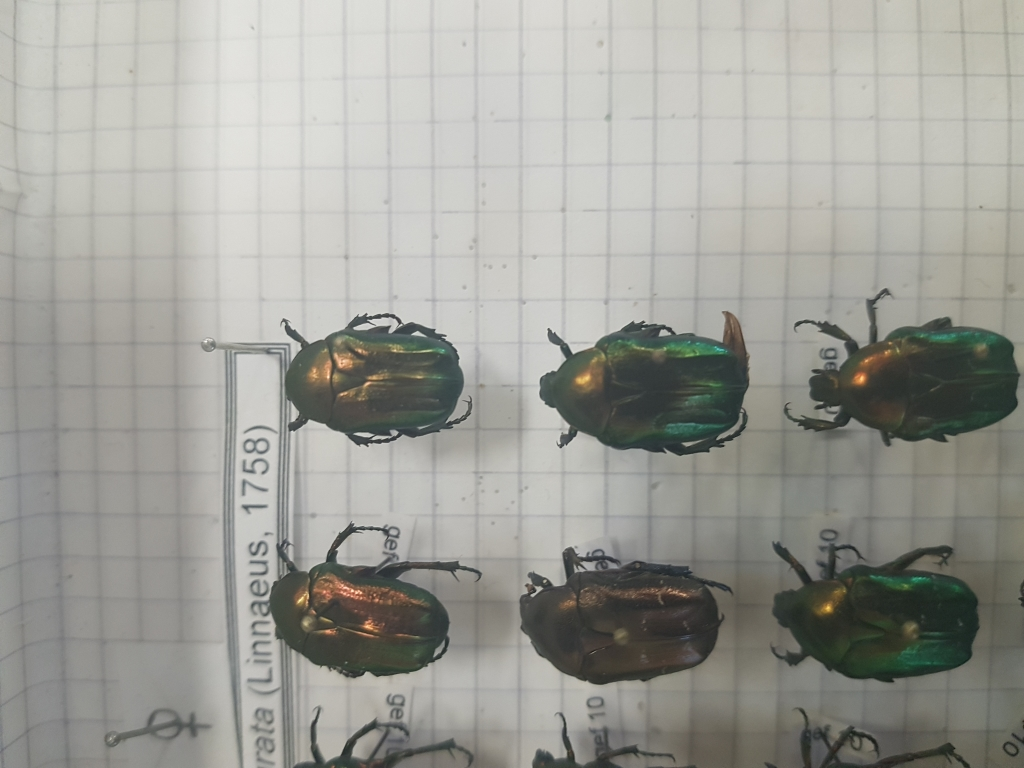Cetonia_aurata: (261, 531, 467, 695), (269, 305, 483, 460)
